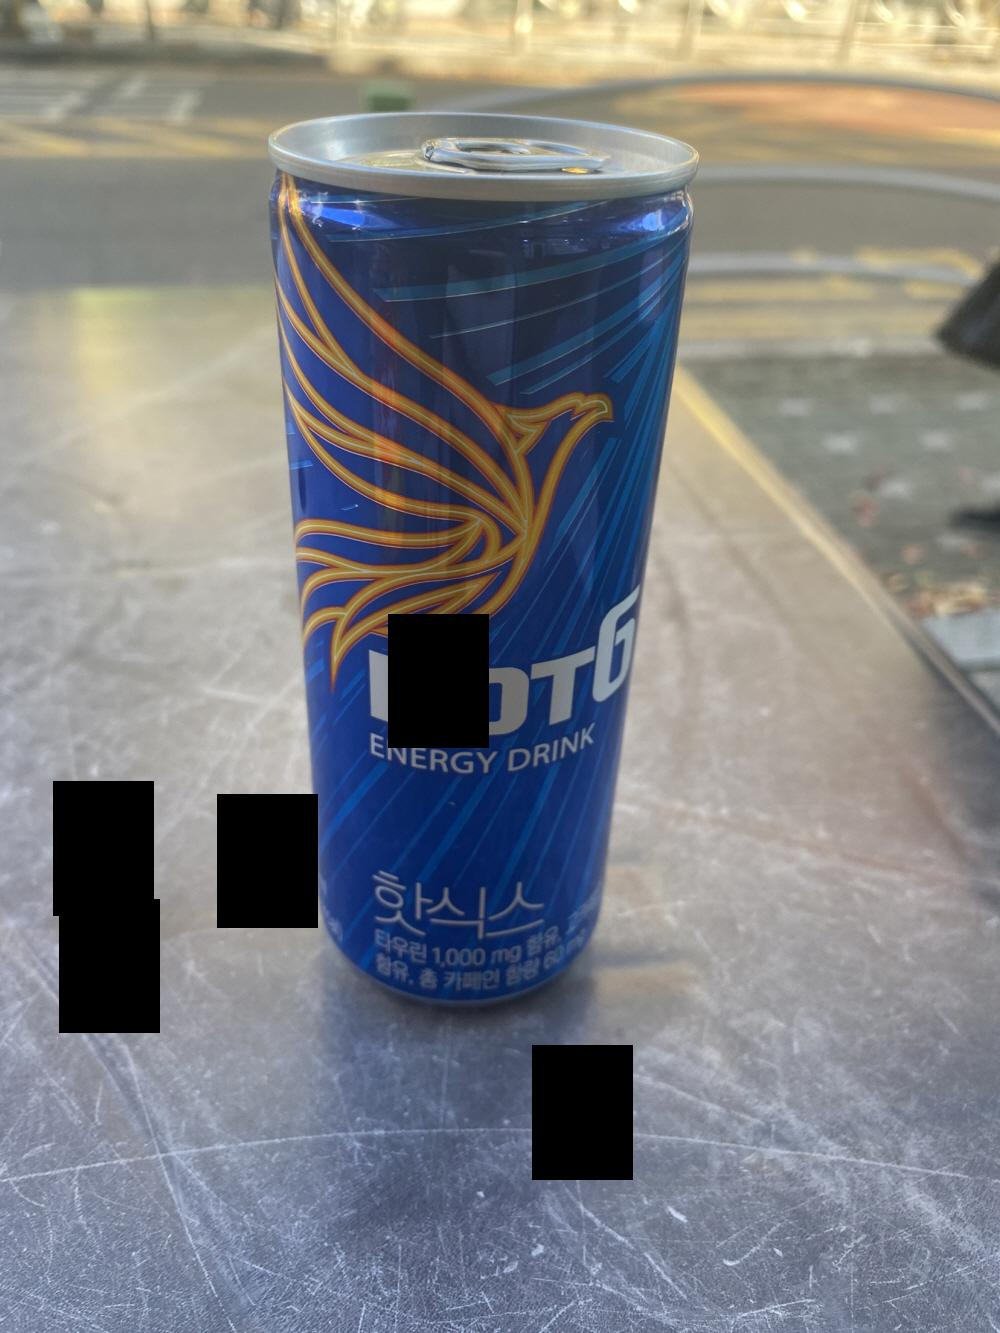hotsix_org: (271, 93, 699, 1019)
